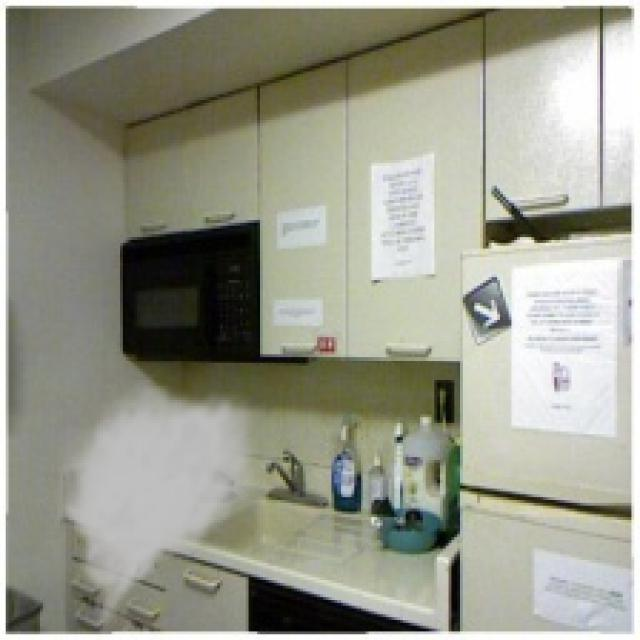smoke: (55, 380, 272, 637)
